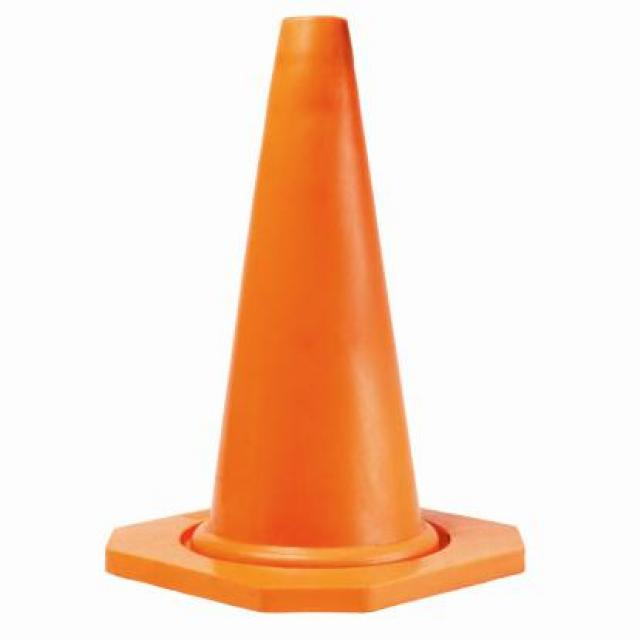Cone: (99, 14, 555, 614)
